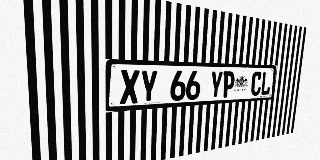6: (170, 70, 187, 101), (186, 71, 201, 100)
C: (250, 72, 262, 96)
L: (260, 72, 272, 95)
P: (222, 71, 235, 98)
X: (120, 70, 139, 104)
Y: (140, 70, 158, 103), (209, 71, 223, 99)
